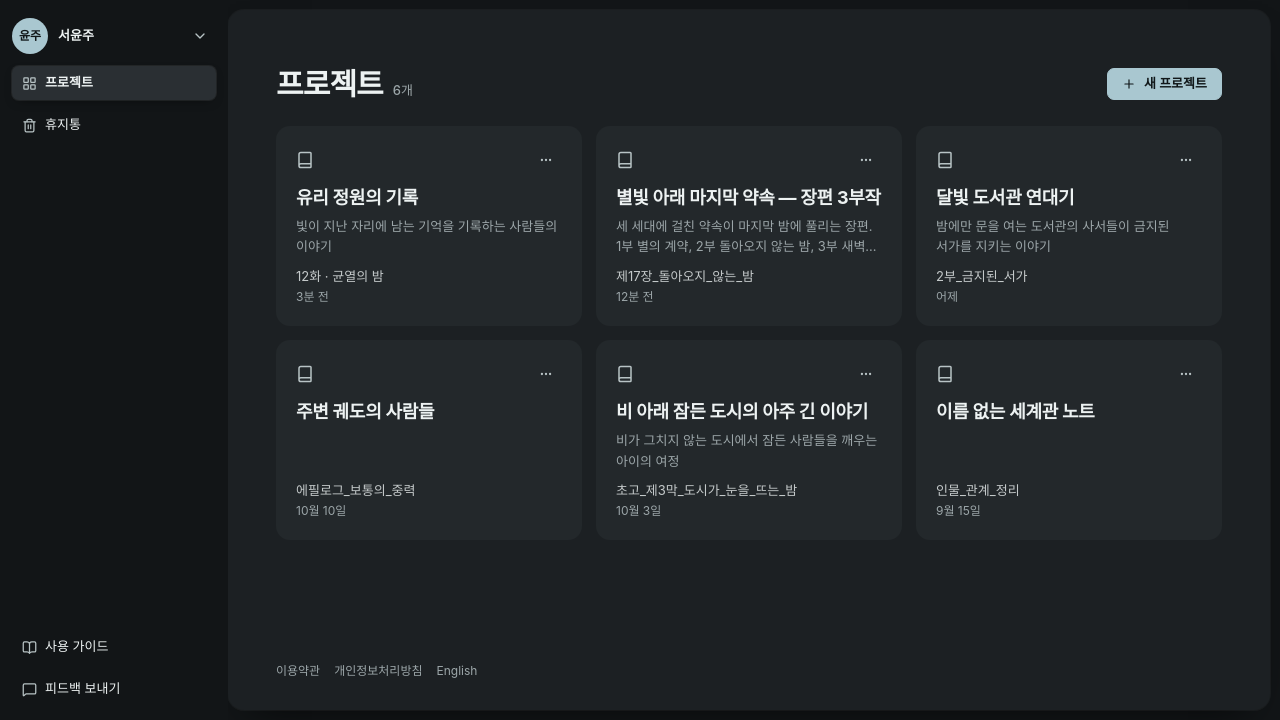
Test: ProjectListPage › moves a project to the trash from the card menu
This screenshot has width=1280, height=720.
Click the button named "달빛 도서관 연대기 더보기" at (1186, 160), box x1=1170 y1=144 x2=1202 y2=176
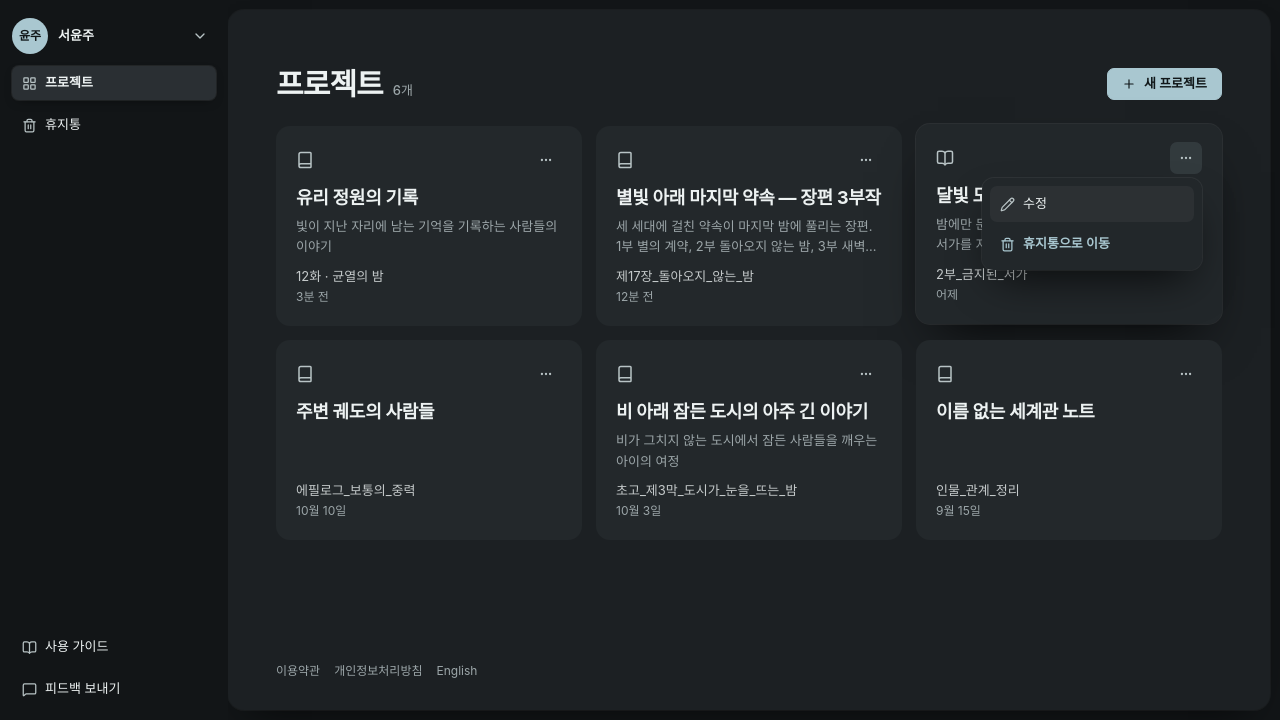
Click the menu item "휴지통으로 이동" at (1092, 244), box x1=990 y1=226 x2=1194 y2=262
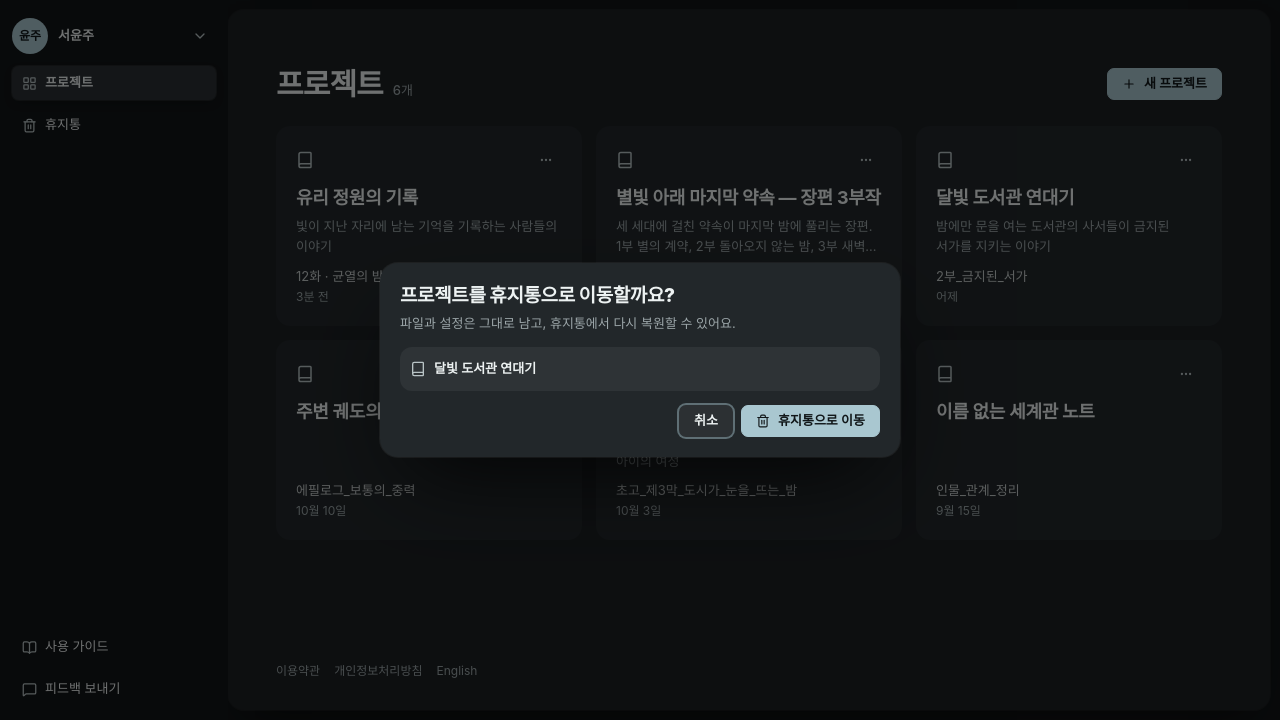
Click the button "휴지통으로 이동" at (810, 421), box x1=741 y1=405 x2=880 y2=437
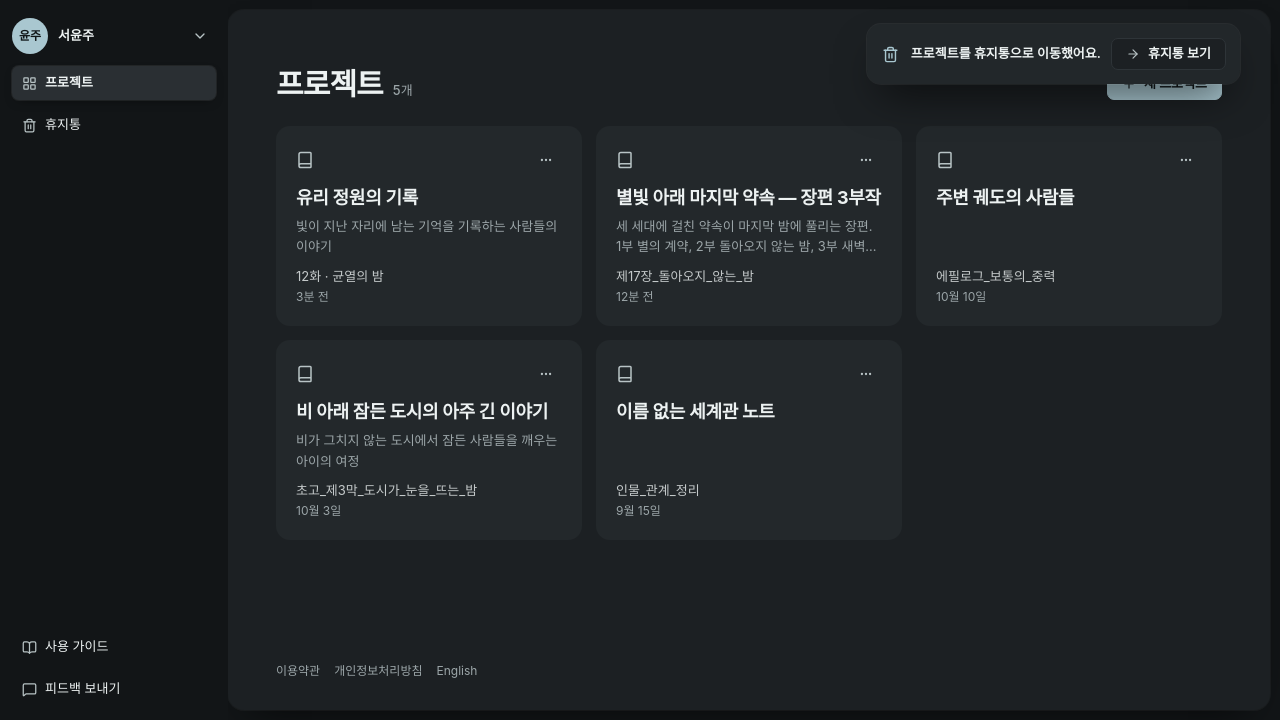
Expected: the link "달빛 도서관 연대기" is gone
Expected: the text "프로젝트를 휴지통으로 이동했어요." is shown, x1=911 y1=44 x2=1101 y2=64
